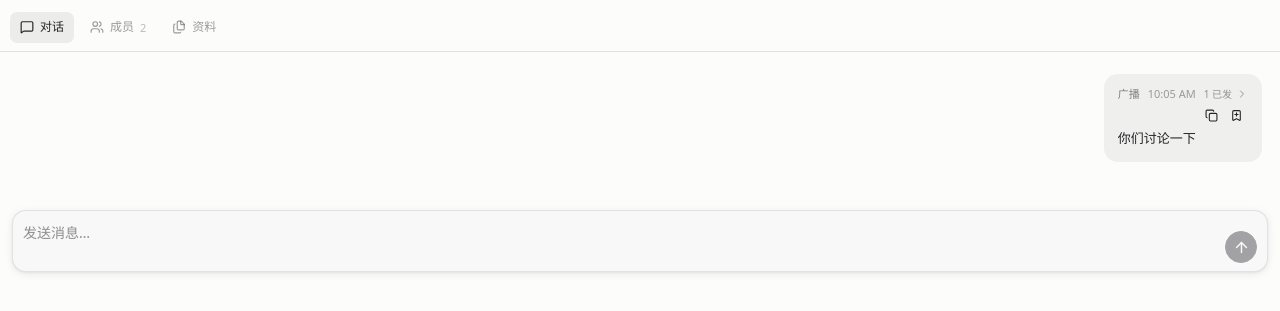
同名成员（PRD §B10-2） › 投递明细里也是同一份名字
Click the button with test id "group-delivery-summary-groupmsg:1". click: (1226, 94)
box: [1204,87,1248,101]
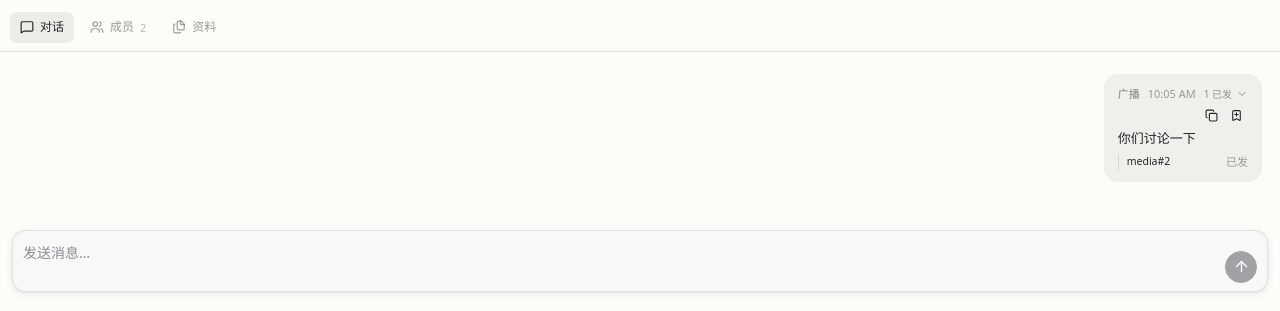
Result: the list with test id "group-delivery-detail" shows "media#2" at [1127,154,1170,168]
